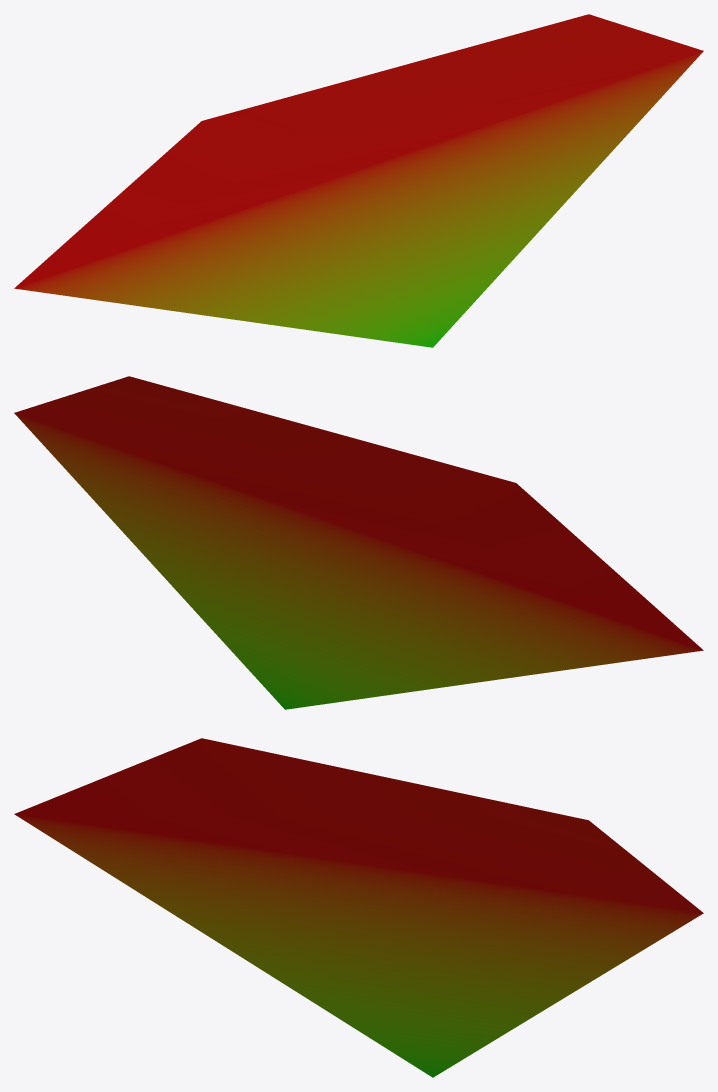
File: Small Balsam_LOD6_Var1_xefmcgrqx.fbx
3 views of the same model, one above another, from view 1: azimuth 30°, elevation 25°; view 2: azimuth 150°, elevation 25°; view 3: azimuth 330°, elevation 25° (orthographic).
Parts seen in each view (by area): view 1: _nq6w_Var1_LOD6; view 2: _nq6w_Var1_LOD6; view 3: _nq6w_Var1_LOD6.
Part boxes in pixels (box(x1,y1,x2,y2)): _nq6w_Var1_LOD6: box(14, 14, 703, 347); _nq6w_Var1_LOD6: box(14, 376, 703, 709); _nq6w_Var1_LOD6: box(14, 738, 703, 1077).
Bounding box in the file's own units: 26.09 × 10.68 × 4.67e-07.
